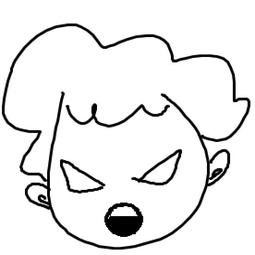ear: (17, 180, 54, 214), (205, 147, 233, 188)
empty_eye: (130, 137, 187, 187), (60, 156, 107, 192)
open_mouth: (96, 201, 153, 240)
